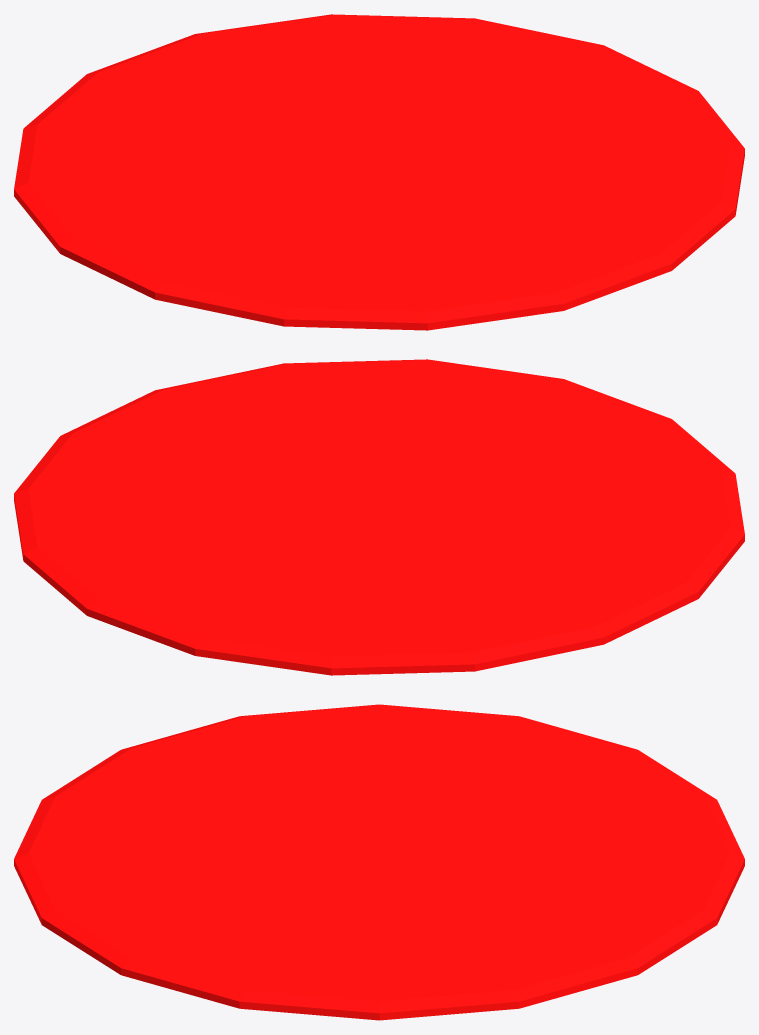
Rendered from BasePlatform.010.glb.
The picture shows the model from 3 angles, top to bottom: view 1: azimuth 30°, elevation 25°; view 2: azimuth 150°, elevation 25°; view 3: azimuth 270°, elevation 25°; orthographic projection.
Parts seen in each view (by area): view 1: BasePlatform.010; view 2: BasePlatform.010; view 3: BasePlatform.010.
Part boxes in pixels (bbox=[...]): BasePlatform.010: bbox=[14, 14, 744, 330]; BasePlatform.010: bbox=[14, 359, 744, 675]; BasePlatform.010: bbox=[14, 704, 744, 1020].
Size of what is drawn, in the model's own units: 4.06 by 0.0778 by 4.06.
1 material, 1 textured.
